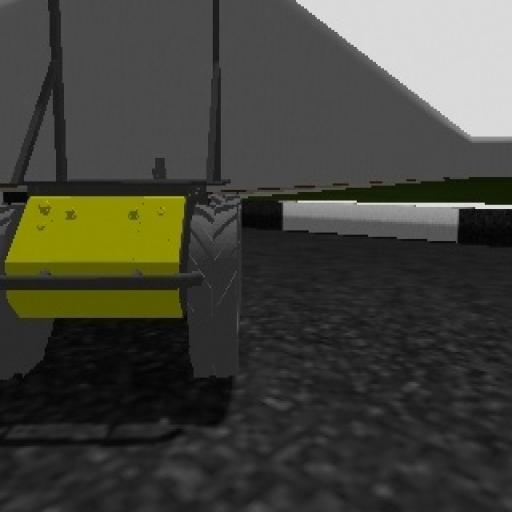huskya200: (0, 0, 254, 416)
